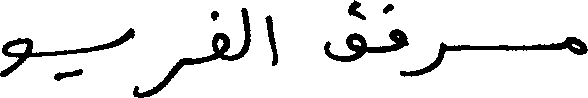ا: (263, 12, 280, 65)
ر: (149, 55, 184, 95), (416, 40, 445, 76)
ف: (386, 1, 406, 55), (210, 9, 230, 61)
ق: (322, 0, 367, 62)
ل: (238, 6, 252, 59)
م: (565, 35, 585, 56)
و: (0, 36, 33, 77)
ي: (54, 25, 135, 82)
